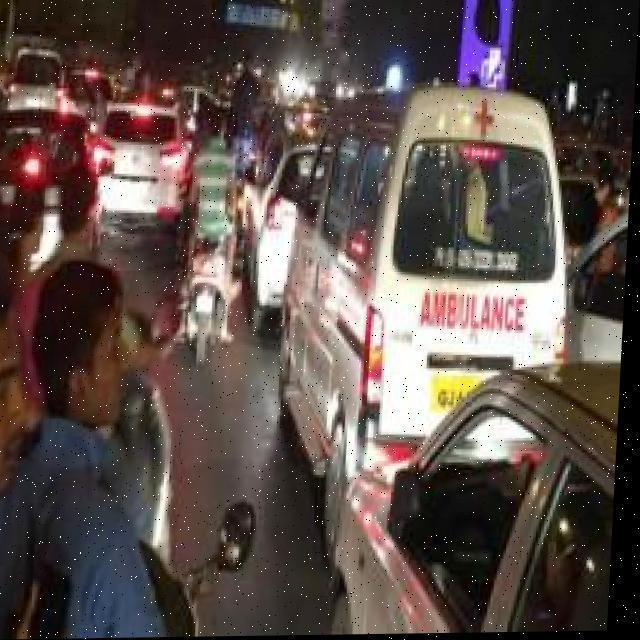Ambulance: (0, 21, 636, 637), (268, 77, 584, 574), (0, 254, 213, 637), (333, 360, 622, 633), (220, 64, 340, 338)
